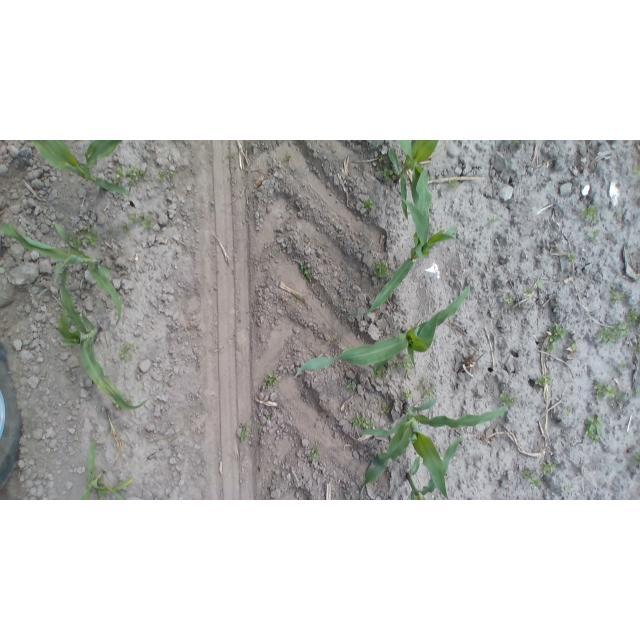Maize: (292, 284, 472, 380), (355, 396, 505, 497), (363, 164, 458, 319), (3, 218, 128, 325), (53, 275, 150, 412), (30, 141, 131, 200), (386, 140, 442, 226), (405, 435, 463, 500), (77, 439, 135, 500)
Weeds: (597, 321, 630, 343), (543, 323, 565, 353), (117, 166, 148, 187), (593, 382, 625, 402), (583, 415, 603, 446), (72, 228, 101, 248), (372, 258, 392, 280), (351, 414, 376, 431), (584, 203, 601, 225), (117, 342, 135, 362), (626, 307, 640, 330), (609, 288, 629, 304), (298, 260, 313, 281), (262, 371, 278, 390), (156, 170, 179, 183), (533, 372, 551, 388), (498, 392, 518, 406), (237, 422, 250, 443), (224, 151, 239, 166), (381, 167, 396, 182), (421, 385, 436, 399), (542, 460, 557, 474), (531, 470, 542, 489), (401, 356, 413, 372), (371, 366, 385, 379), (520, 466, 532, 481), (363, 199, 376, 212), (589, 229, 601, 243), (142, 215, 154, 229), (631, 450, 640, 468), (309, 445, 319, 461), (402, 389, 414, 401), (129, 214, 141, 226), (488, 215, 501, 226), (449, 179, 460, 192), (419, 376, 430, 388), (503, 295, 514, 306), (568, 340, 579, 351), (632, 164, 640, 178), (379, 405, 390, 415), (535, 281, 545, 292), (566, 252, 576, 262), (121, 223, 131, 233), (525, 288, 536, 297), (289, 295, 299, 304), (618, 361, 626, 372), (512, 140, 523, 148), (616, 208, 624, 219), (633, 340, 640, 352), (347, 380, 356, 389), (564, 407, 572, 416), (284, 152, 292, 161), (380, 155, 389, 163), (160, 495, 172, 499)
